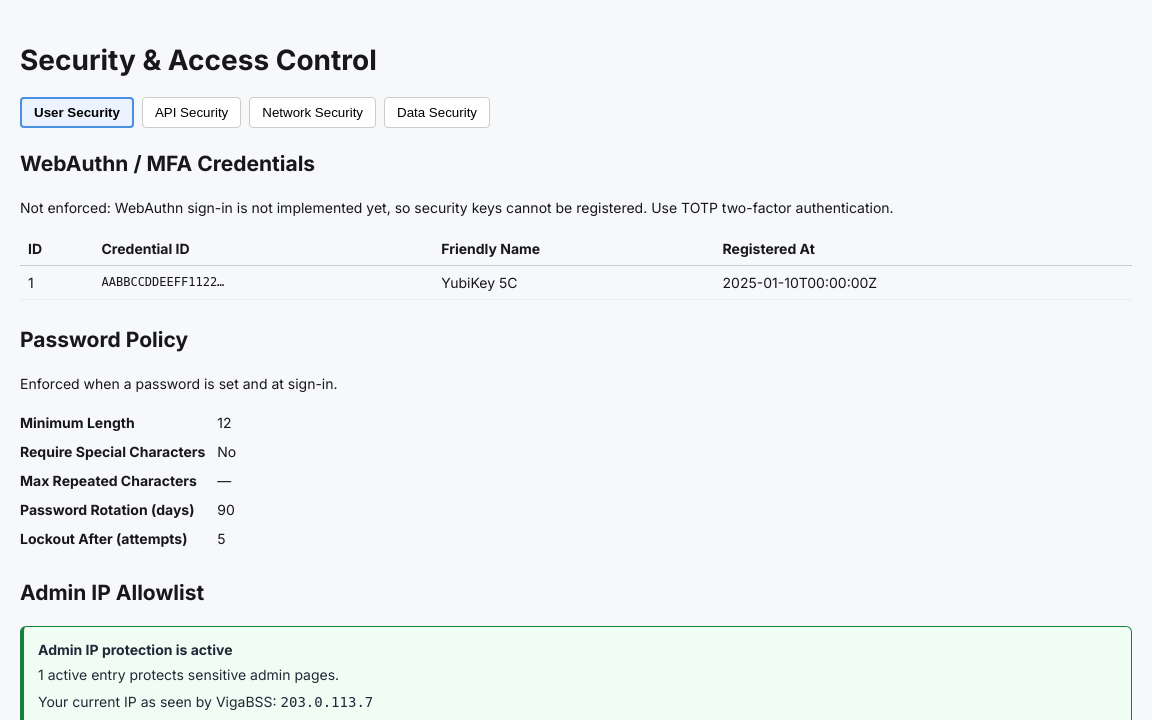
Scenario: SecurityAccessControlPage (§17) › switches to Data Security tab and shows TLS info
Click the button "Data Security": {"x": 437, "y": 112} [384, 97, 490, 128]
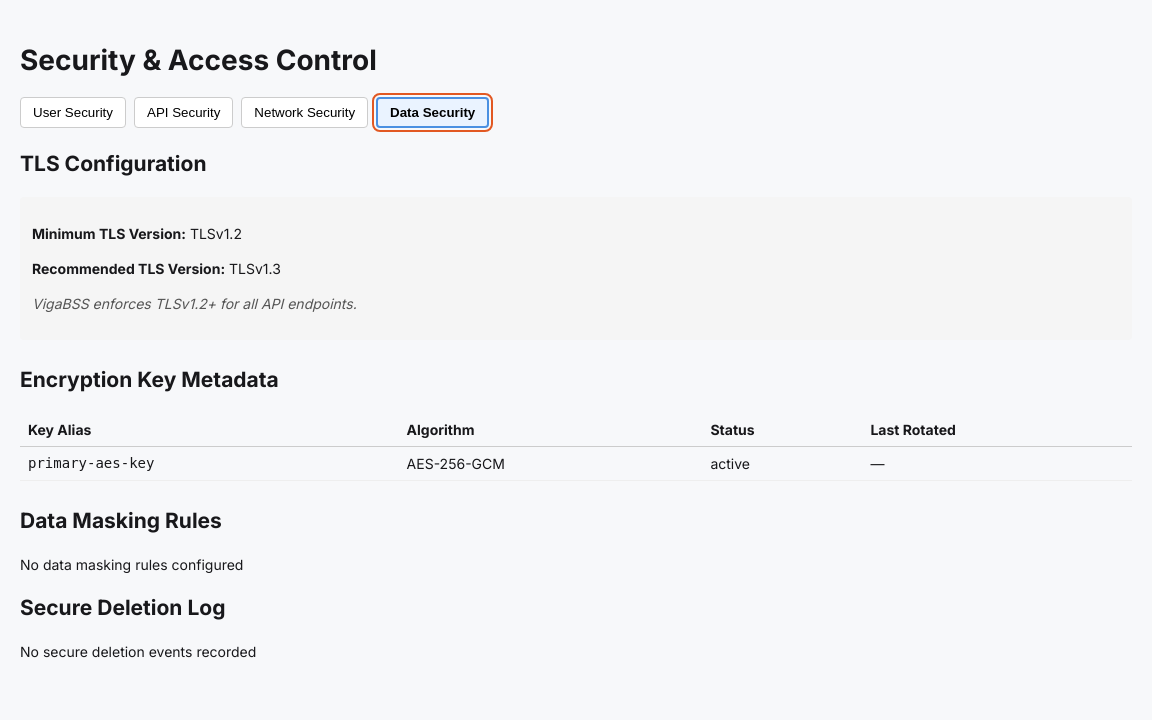
Result: the text "Recommended TLS Version: TLSv1.3" is shown at [32, 260, 281, 277]
